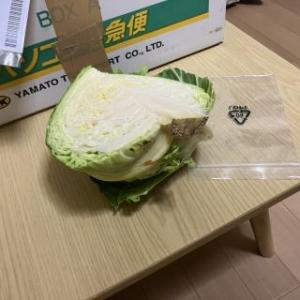cabbage: (45, 66, 217, 216)
